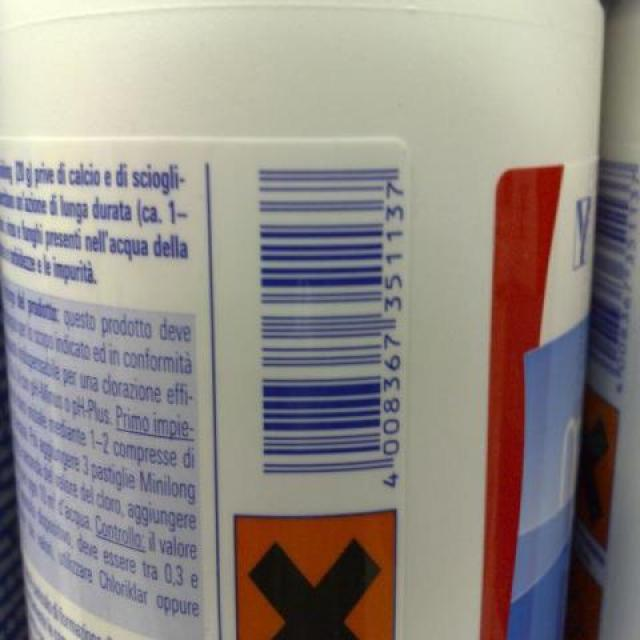Barcode: (241, 157, 410, 500)
